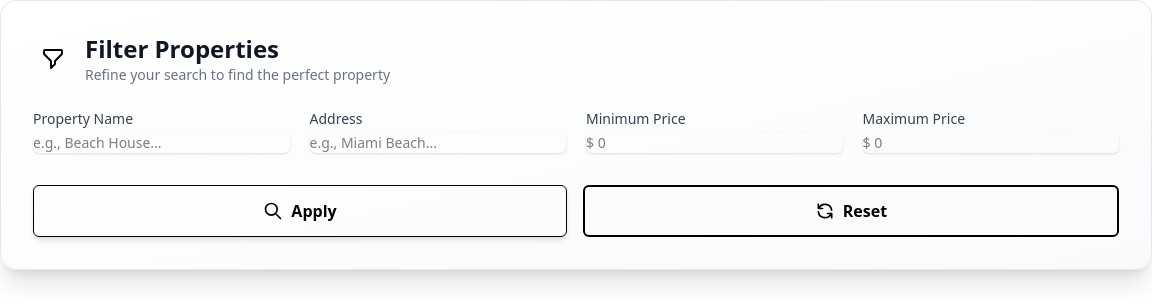
Test: PropertyFilters › should clear form when reset is clicked
This screenshot has width=1152, height=304.
Type "Villa" into the field labelled "Property Name" at [161, 143], box [33,133,290,153]
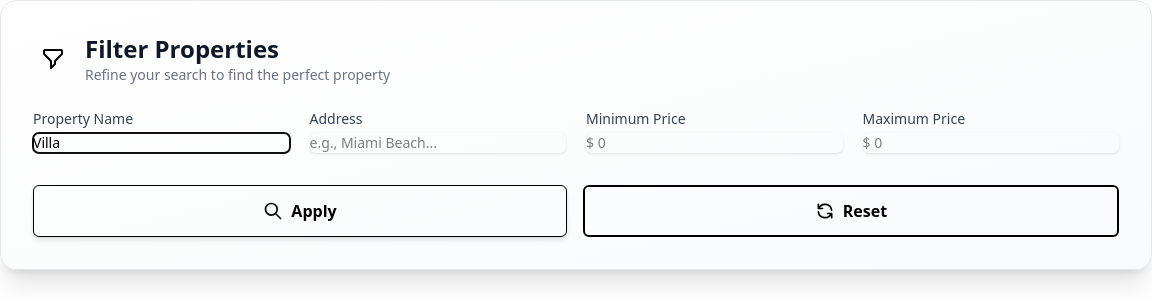
Click the button "Reset" at [851, 211], box [583,185,1119,237]
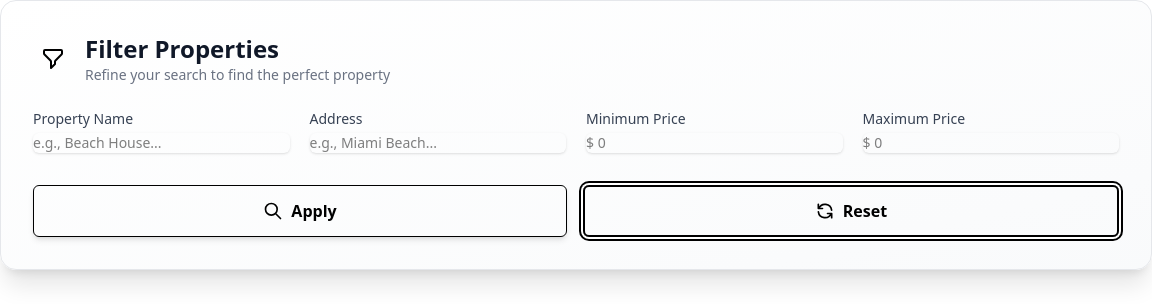
Expected: the field labelled "Property Name" is empty, [33,133,290,153]
